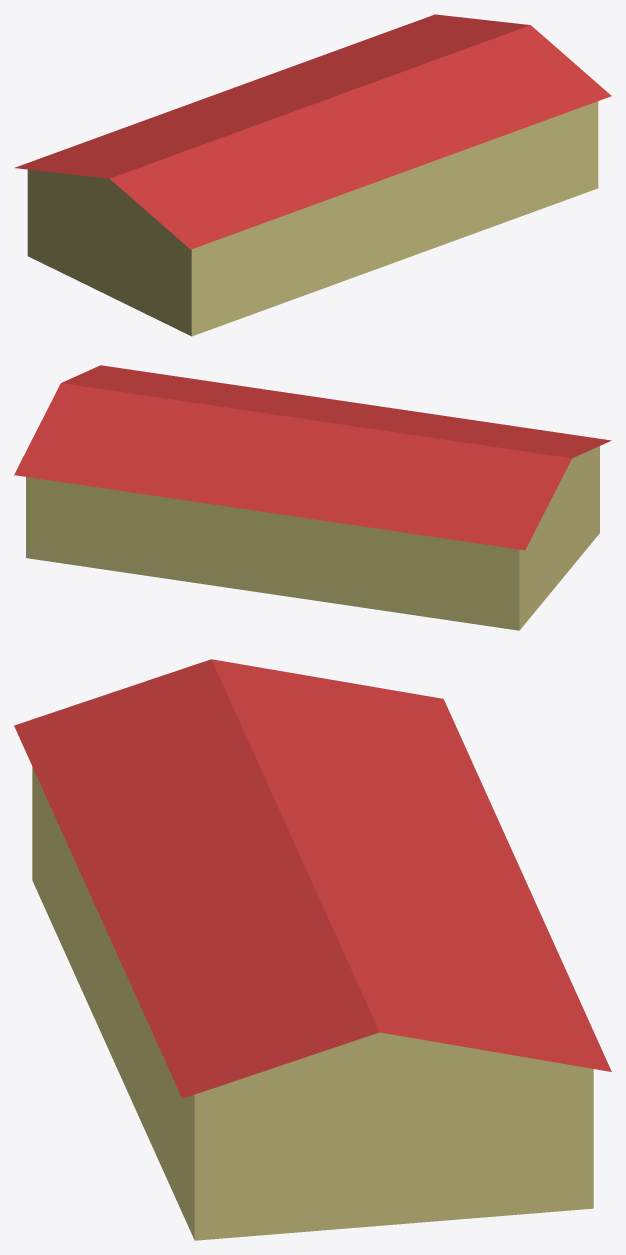
3 views of the same model, one above another, from view 1: azimuth 30°, elevation 25°; view 2: azimuth 150°, elevation 25°; view 3: azimuth 270°, elevation 25° (orthographic). The views are drawn at different scales.
Bounding box in the file's own units: 61.31 × 37.99 × 14.04.
